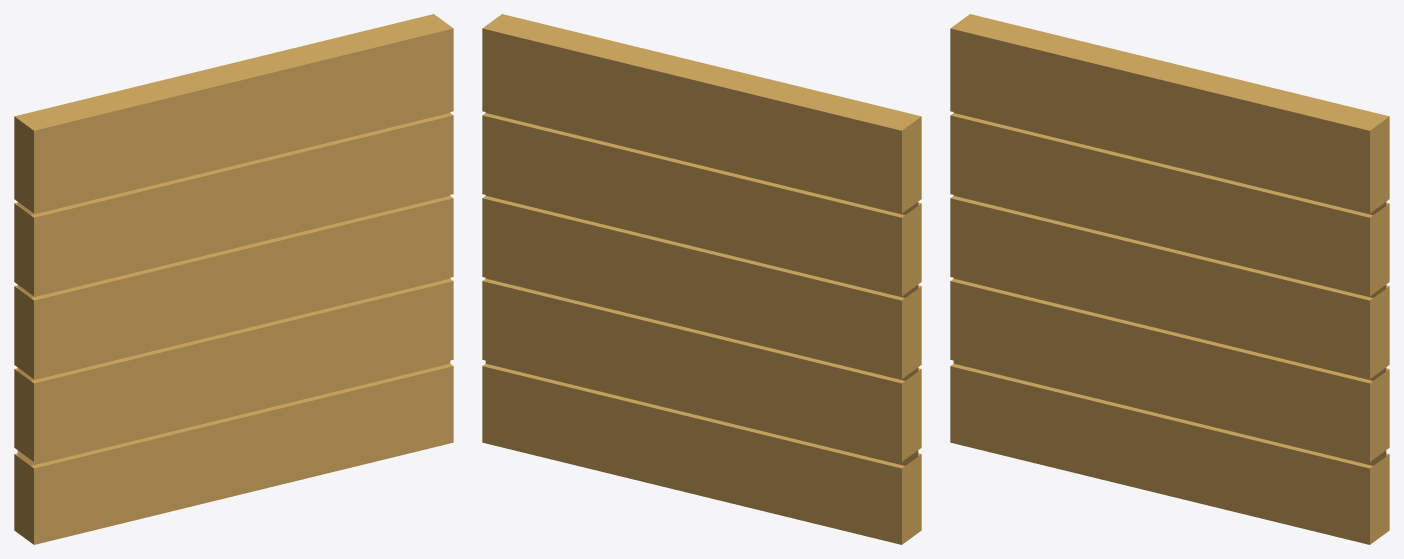
File: Wall01_house5.fbx
3 renders of one model, left to right at view 1: azimuth 30°, elevation 25°; view 2: azimuth 150°, elevation 25°; view 3: azimuth 330°, elevation 25°, orthographic.
Visible parts, largest first — view 1: Wall01_house05; view 2: Wall01_house05; view 3: Wall01_house05.
Boxes of the visible parts, <box> form: Wall01_house05: <box>14,14,453,544</box>; Wall01_house05: <box>482,14,921,544</box>; Wall01_house05: <box>950,14,1389,544</box>.
Bounding box in the file's own units: 319 × 300 × 26.
